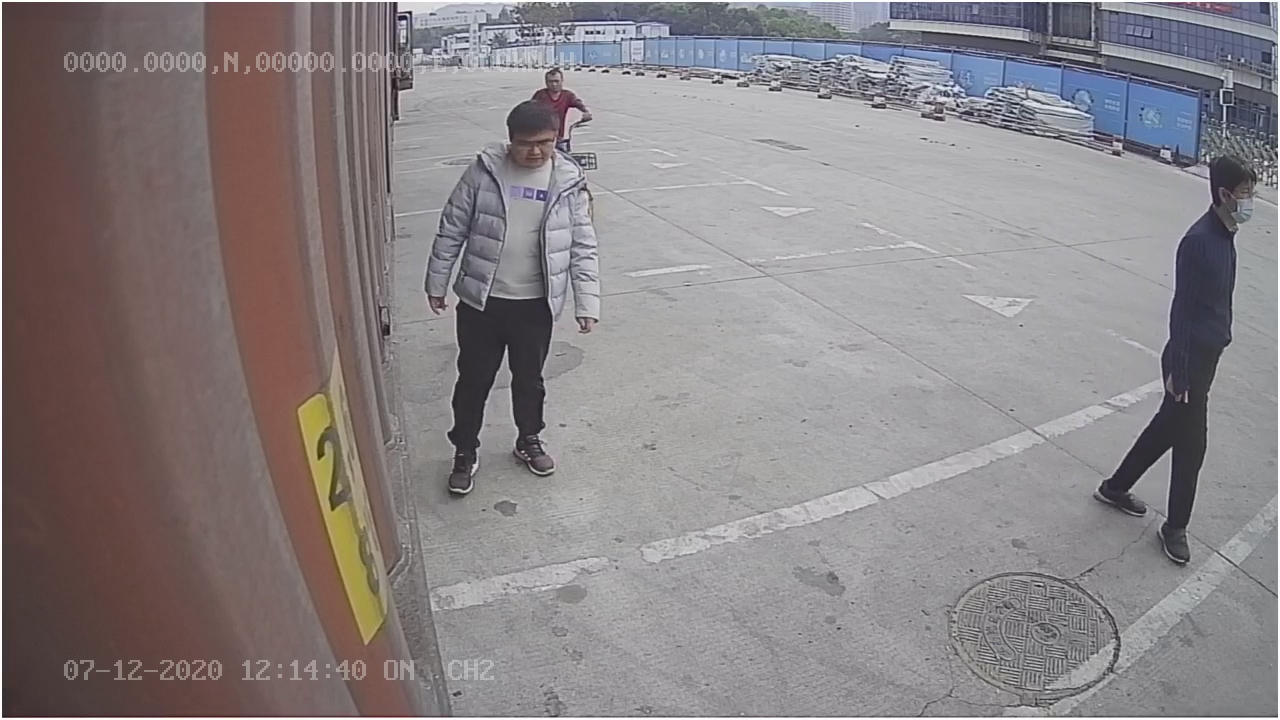person: (403, 92, 609, 498), (1091, 145, 1262, 568)
